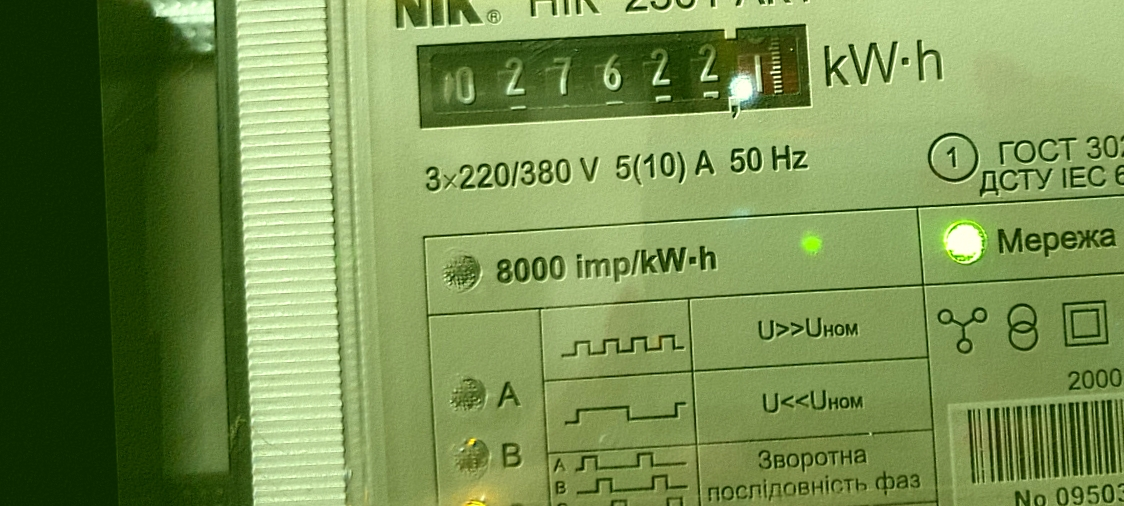0: (452, 62, 478, 106)
1: (749, 51, 767, 94)
2: (647, 45, 673, 88), (502, 54, 527, 98), (696, 41, 721, 83)
6: (600, 51, 623, 92)
7: (550, 54, 575, 98)
screen: (403, 13, 825, 135)
